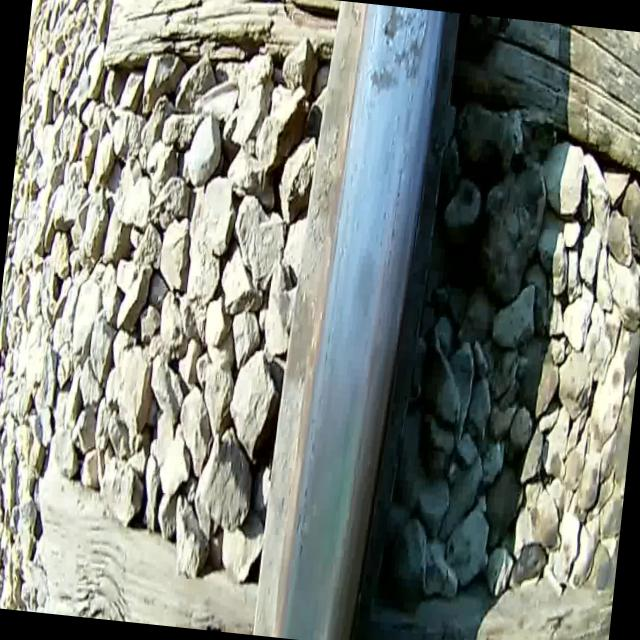Squats: (363, 4, 435, 103)
